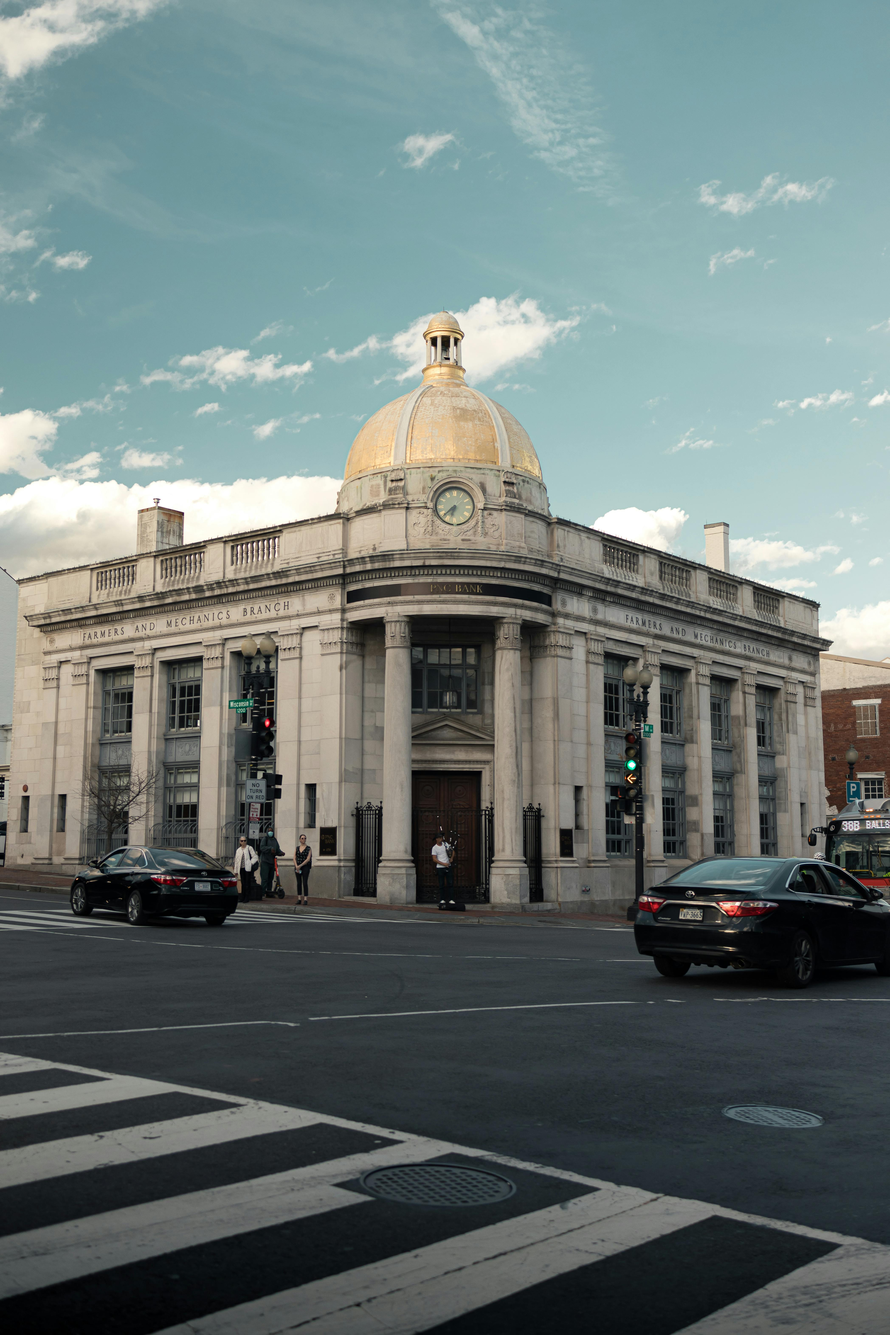other: (619, 851, 890, 989), (72, 838, 242, 934)
